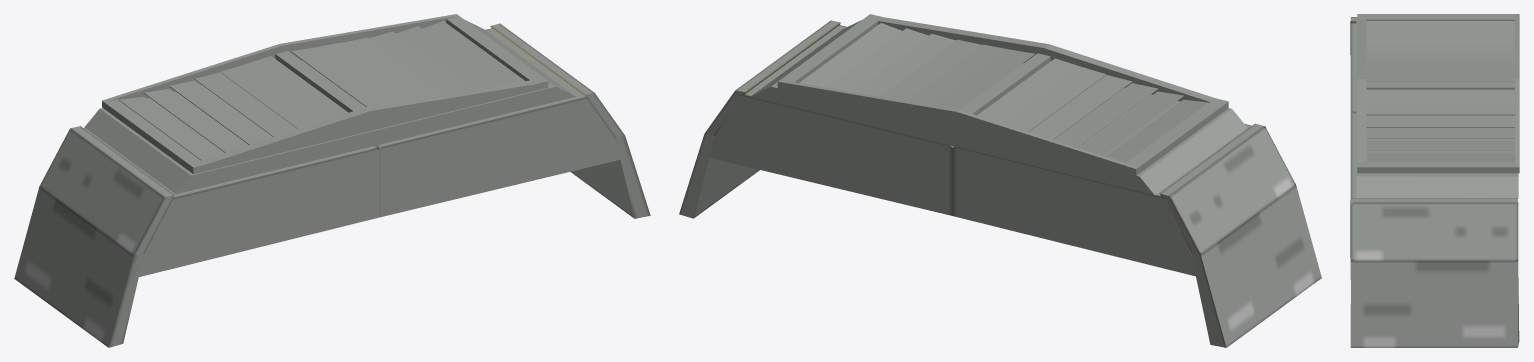
The model's file is df4d_radiator_b.obj.
3 renders of one model, left to right at view 1: azimuth 30°, elevation 25°; view 2: azimuth 150°, elevation 25°; view 3: azimuth 270°, elevation 25°, orthographic. The views are drawn at different scales.
Visible parts, largest first — view 1: df4d_radiator_b; view 2: df4d_radiator_b; view 3: df4d_radiator_b.
Part boxes in pixels (x1,y1,x2,y2): df4d_radiator_b: [14, 14, 650, 347]; df4d_radiator_b: [679, 14, 1321, 347]; df4d_radiator_b: [1350, 14, 1519, 347].
Size of the model in its own units: 3.31 by 0.9888 by 1.01.
